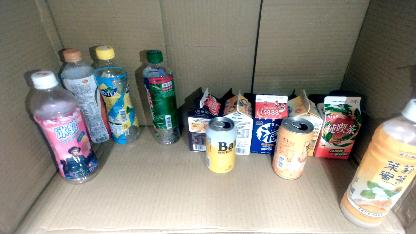Can: (272, 116, 314, 180), (206, 116, 236, 174)
Plastic Bottle: (340, 98, 416, 230), (29, 70, 102, 184), (60, 48, 112, 144), (92, 46, 142, 144), (142, 50, 182, 146)
